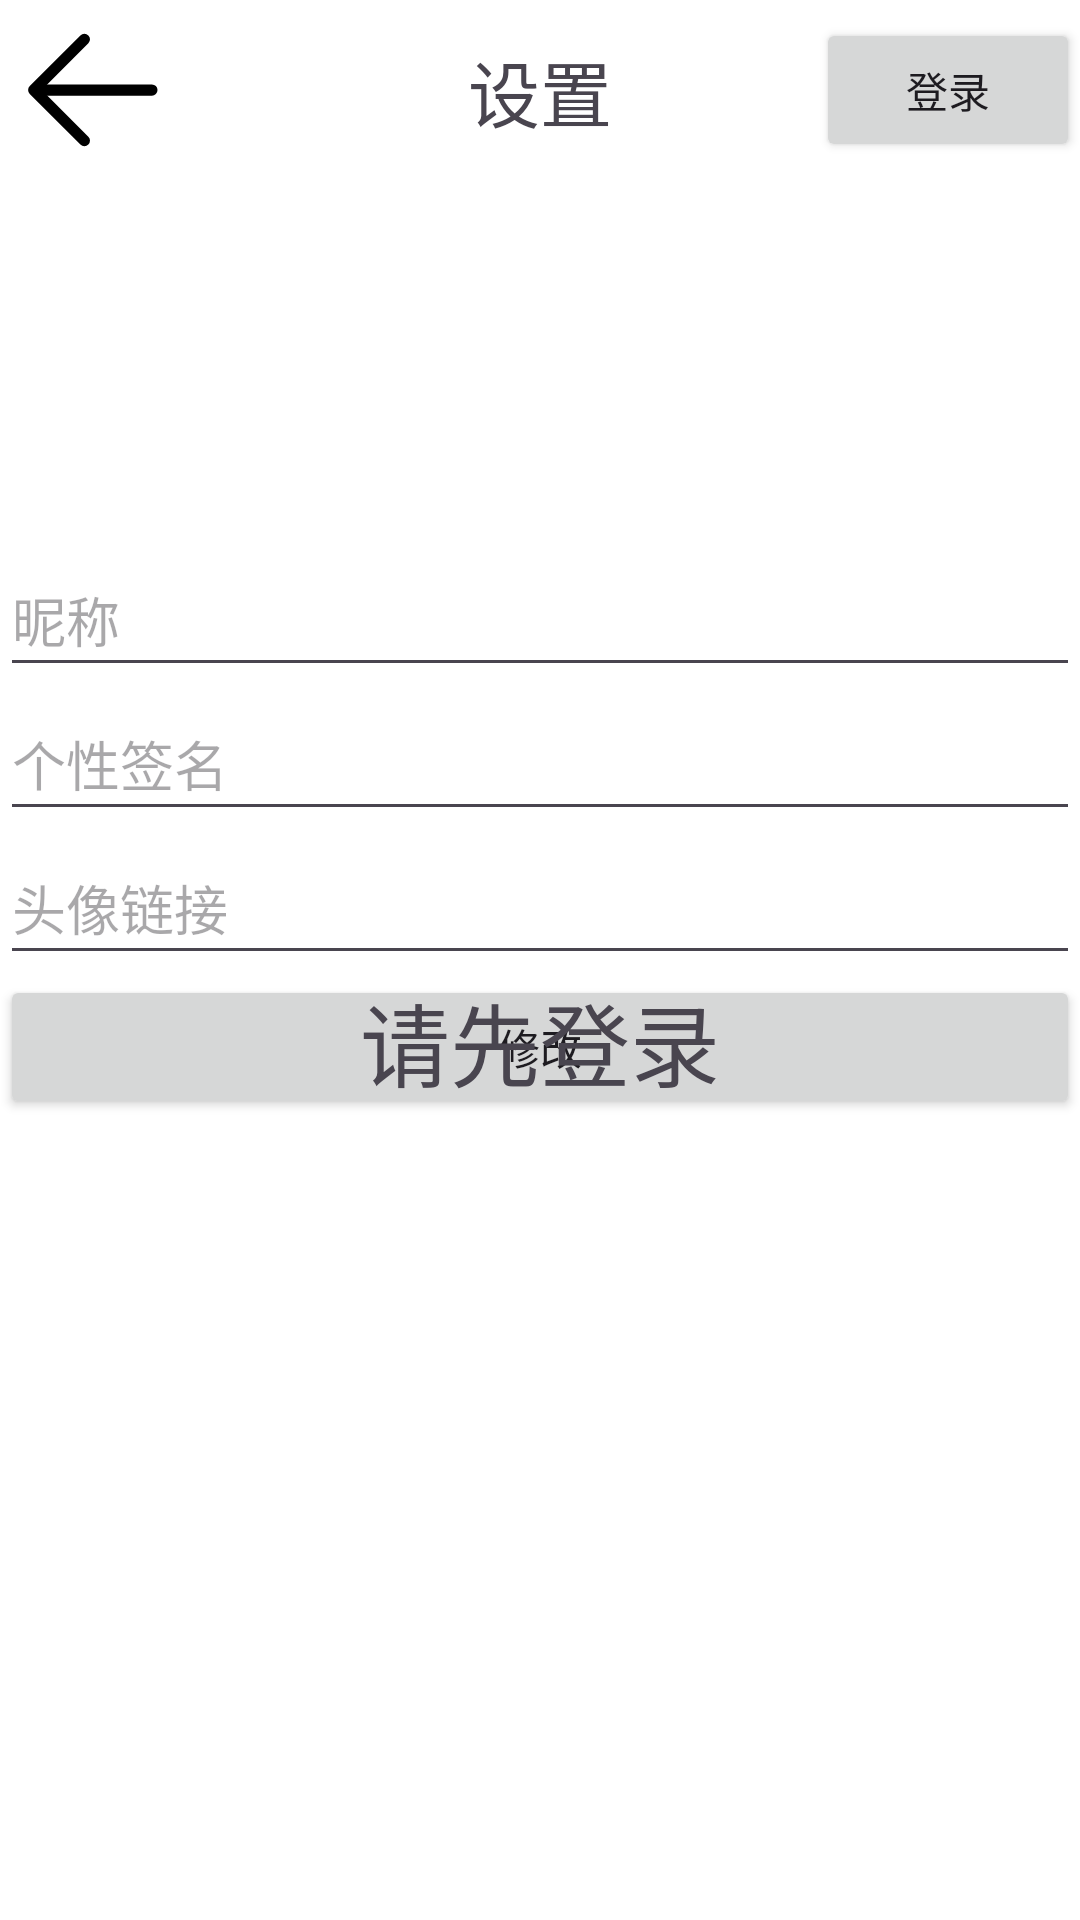

Icon bounding boxes for this 1080*1920 phone screenshot, format [left=x1, top=y1, right=x2, bottom=y2]:
back: [left=28, top=33, right=158, bottom=147]
